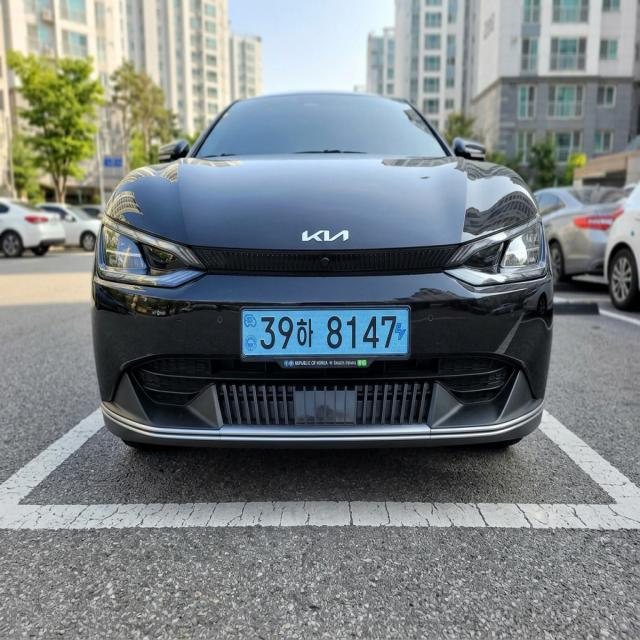car: (238, 300, 419, 378)
carev: (240, 308, 259, 357), (395, 314, 408, 354)
